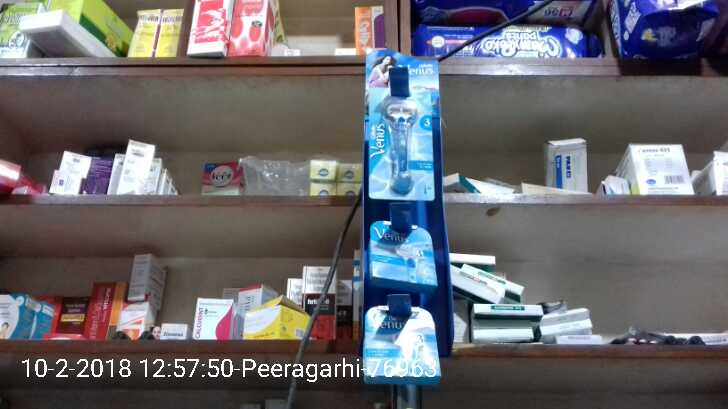venus: (370, 85, 438, 203), (363, 306, 441, 379), (368, 222, 438, 289)
